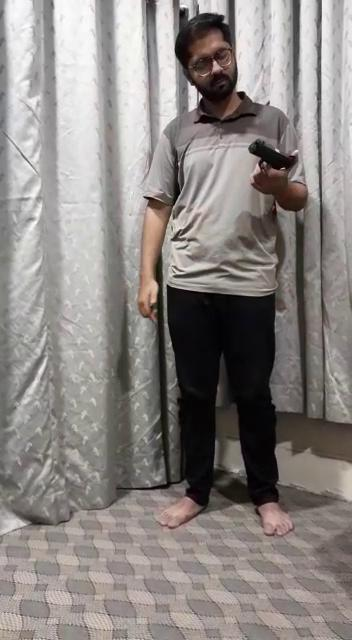criminal: (136, 10, 310, 540)
weapon: (250, 136, 300, 182)
